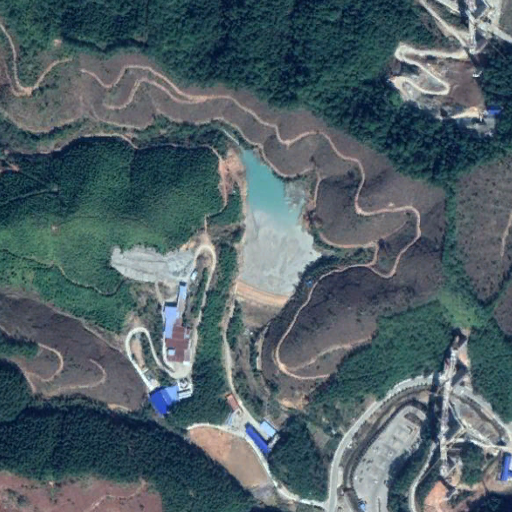tp: (222, 144, 335, 330)
